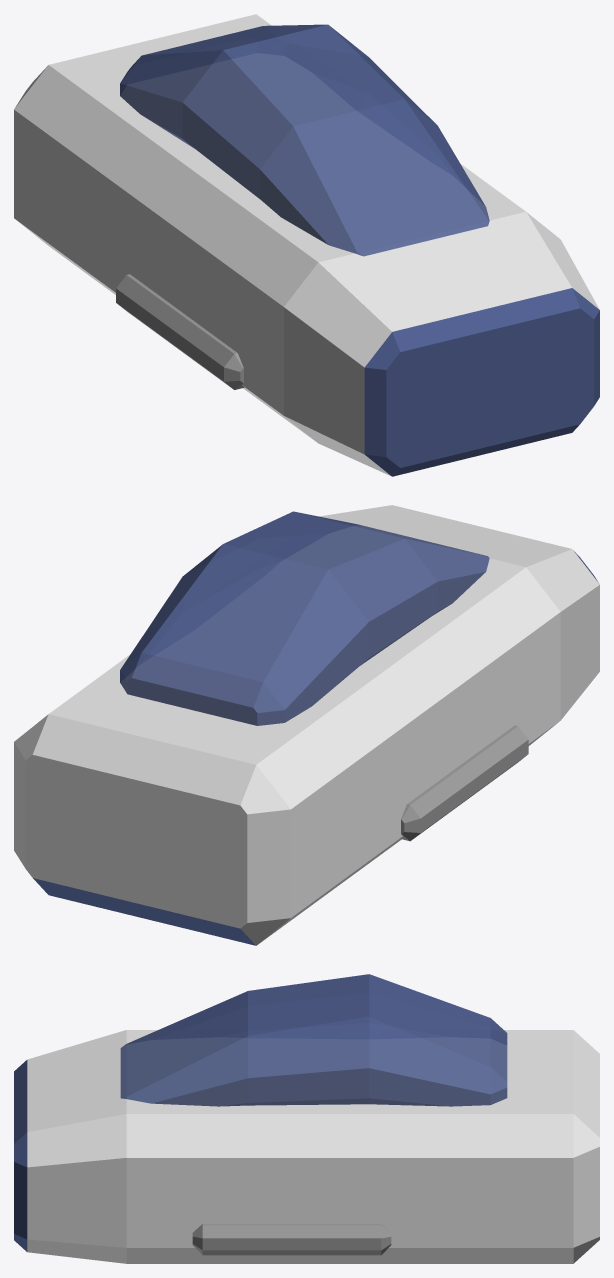
File: hull_pod.obj
3 views of the same model, one above another, from view 1: azimuth 30°, elevation 25°; view 2: azimuth 150°, elevation 25°; view 3: azimuth 270°, elevation 25° (orthographic). The views are drawn at different scales.
Bounding box in the file's own units: 0.88 × 0.7551 × 1.77.
